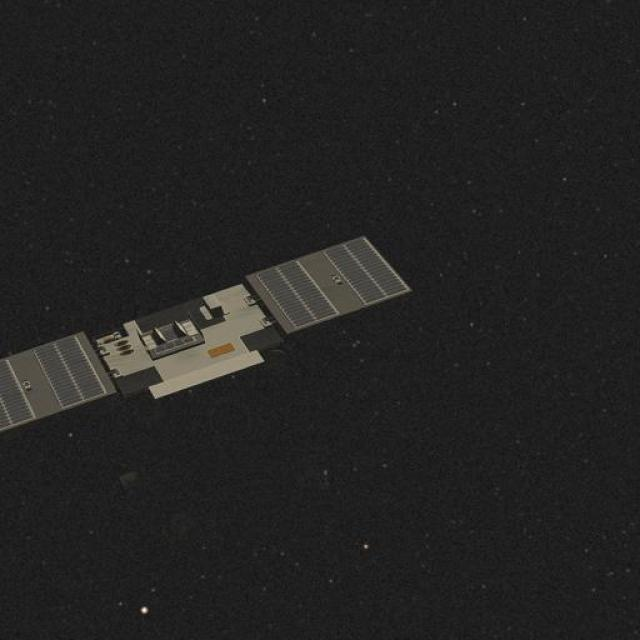proba_2: (0, 208, 441, 448)
